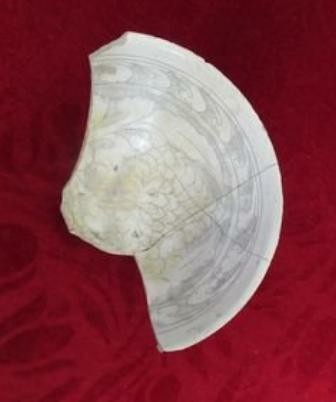ceramics: (52, 27, 286, 358)
